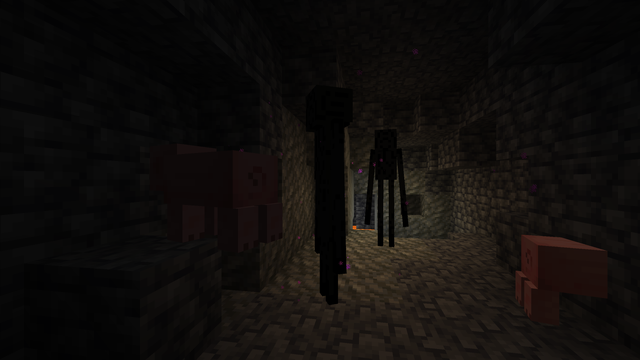cochons: (149, 147, 276, 252), (516, 232, 623, 341)
endermens: (301, 76, 350, 309), (373, 124, 400, 248)
